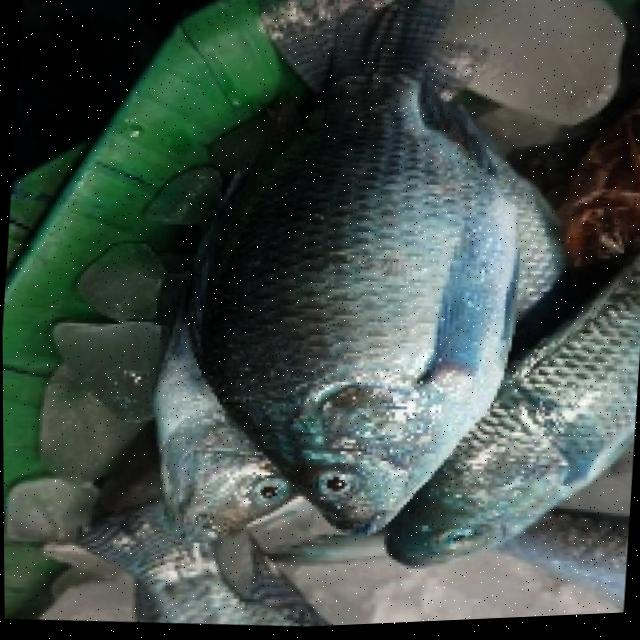Fresh: (213, 0, 526, 573), (412, 196, 640, 602), (142, 379, 320, 549)
